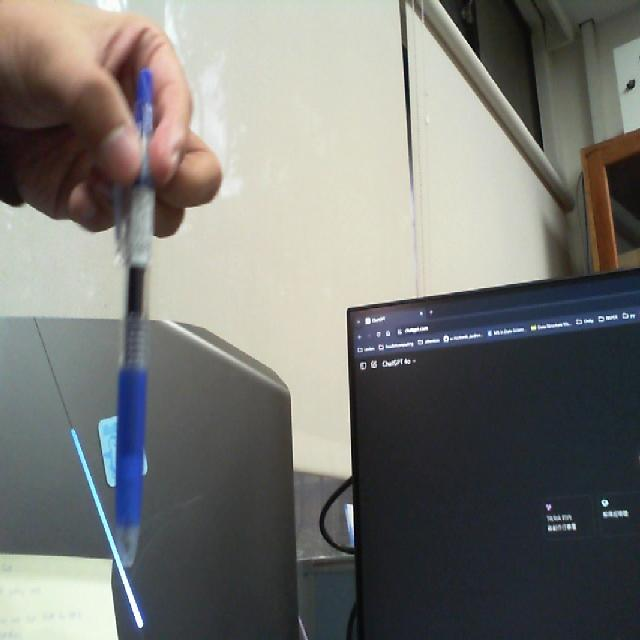Pen: (100, 55, 172, 599)
